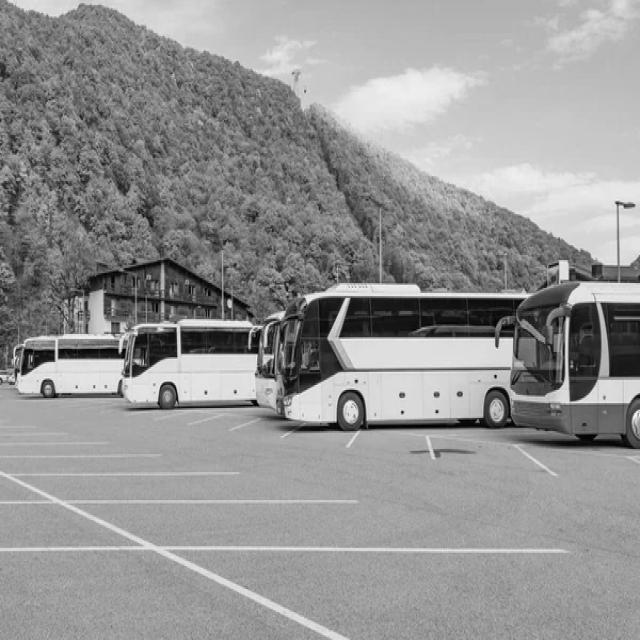Bus: (277, 285, 527, 430), (512, 285, 640, 448), (124, 319, 258, 409), (13, 334, 124, 397)
